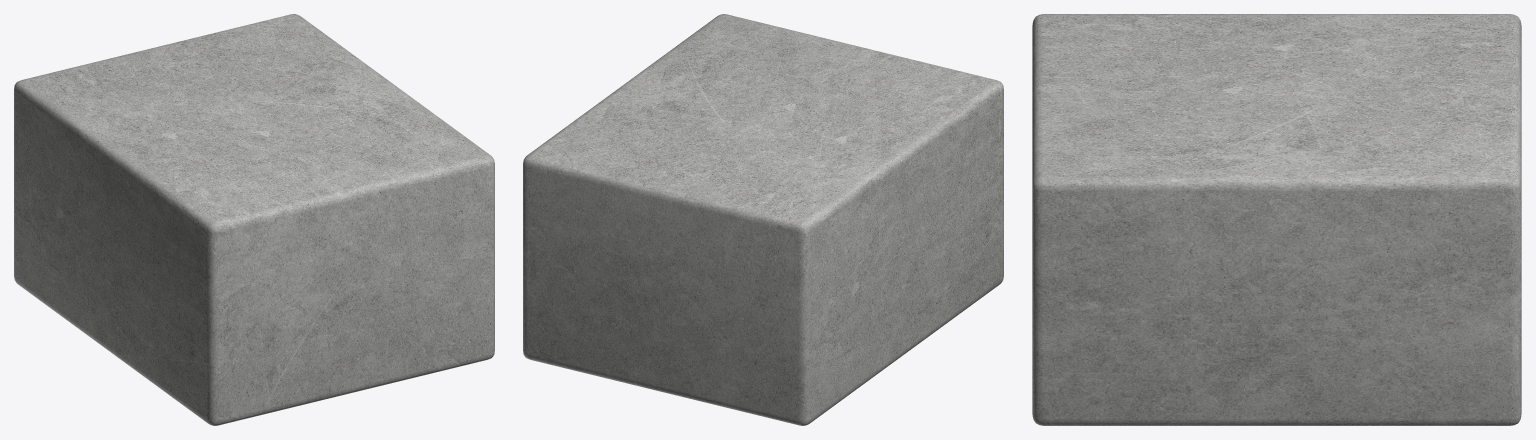
The model's file is SM_SJM_FoundationStoneH_01.fbx.
The picture shows the model from 3 angles, left to right: view 1: azimuth 30°, elevation 25°; view 2: azimuth 150°, elevation 25°; view 3: azimuth 270°, elevation 25°; orthographic projection. The views are drawn at different scales.
Visible parts, largest first — view 1: SM_SJM_FoundationStoneH_01; view 2: SM_SJM_FoundationStoneH_01; view 3: SM_SJM_FoundationStoneH_01.
Part boxes in pixels (left/top/right/bottom): SM_SJM_FoundationStoneH_01: left=14, top=14, right=494, bottom=425; SM_SJM_FoundationStoneH_01: left=523, top=14, right=1003, bottom=425; SM_SJM_FoundationStoneH_01: left=1032, top=14, right=1521, bottom=425.
Bounding box in the file's own units: 34.68 × 42.1 × 23.59.
1 material, 1 textured.
